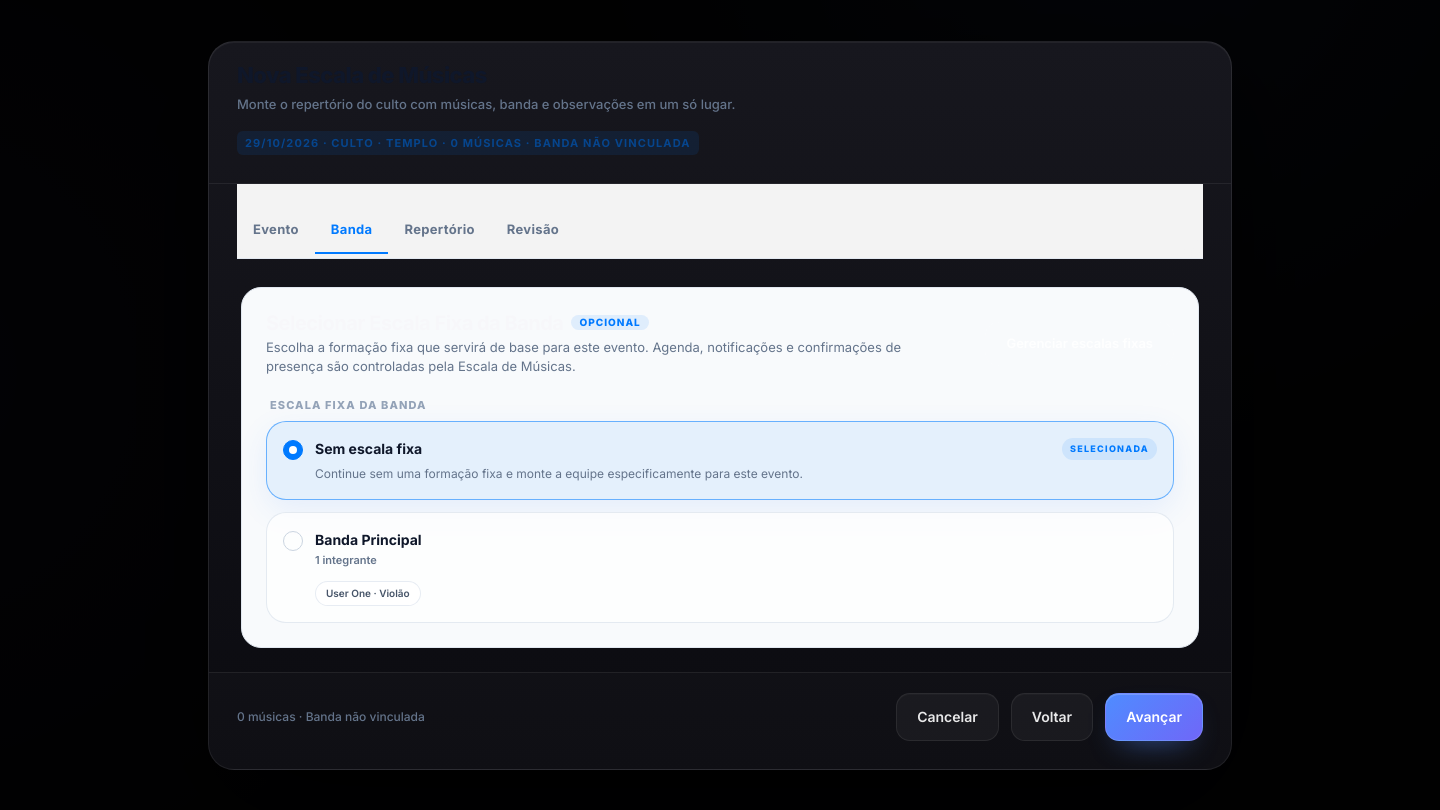
Test: ModernScaleForm Attention Routing & Focus › 3. card de seleção única escolhe a escala fixa
Click the radio button labelled "Banda Principal 1 integrante User One · Violão": (368, 540) [266, 512, 1174, 622]
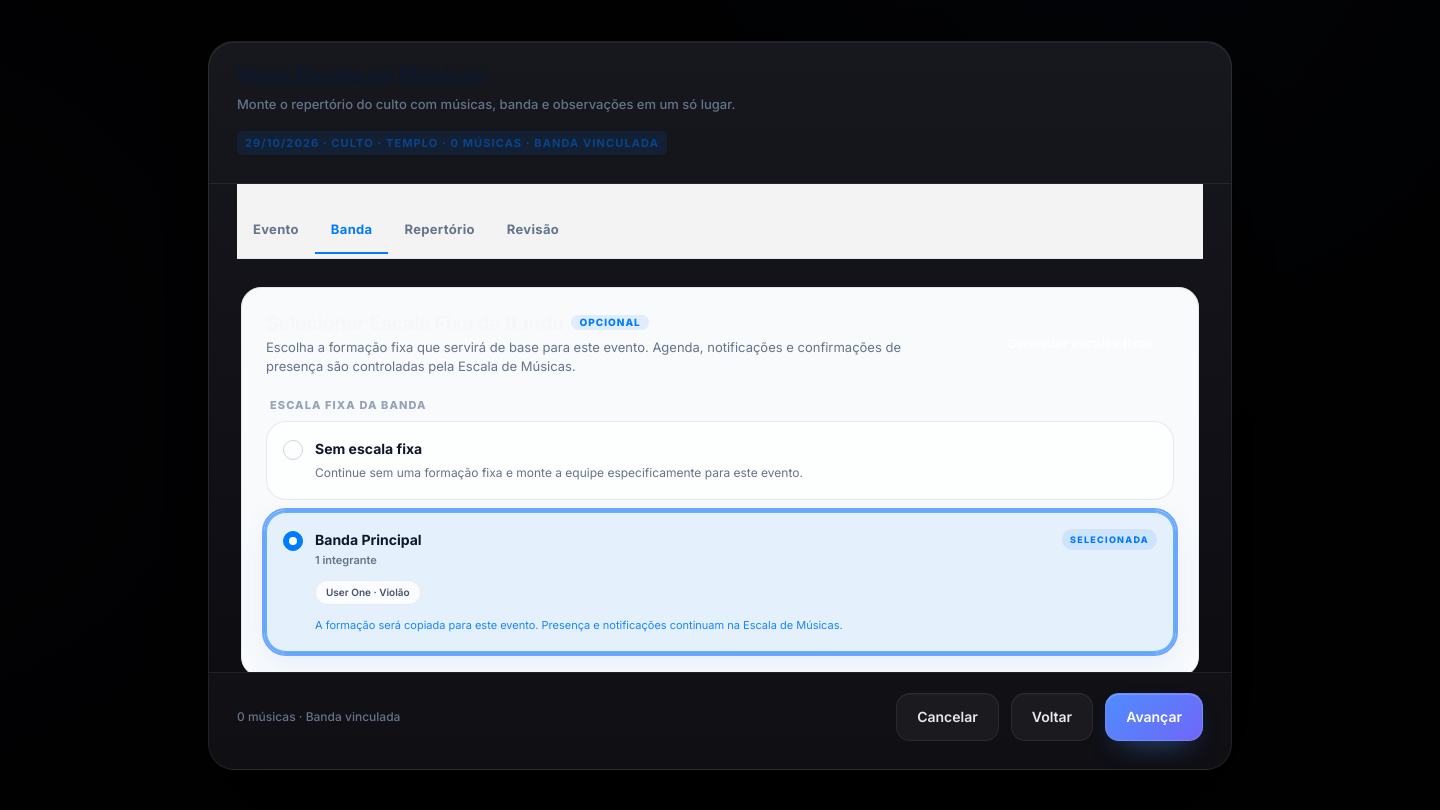
expect the text "A formação será copiada para este evento" is shown: met, box [315, 618, 843, 632]
